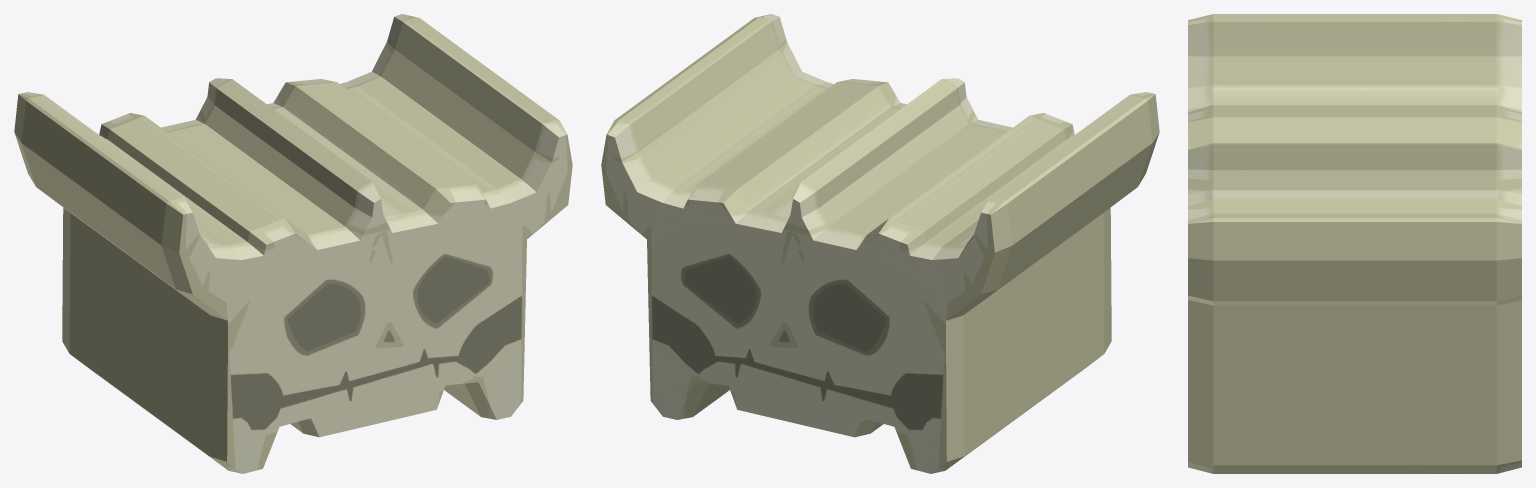
File: cest_from_zelda.glb
The picture shows the model from 3 angles, left to right: view 1: azimuth 30°, elevation 25°; view 2: azimuth 150°, elevation 25°; view 3: azimuth 270°, elevation 25°; orthographic projection.
Parts seen in each view (by area): view 1: Plane; view 2: Plane; view 3: Plane.
Boxes of the visible parts, left/top/right/bottom form: Plane: left=14, top=14, right=572, bottom=473; Plane: left=601, top=14, right=1159, bottom=473; Plane: left=1188, top=14, right=1521, bottom=473.
Size of the model in its own units: 1.26 by 0.87 by 0.8889.
1 material, 1 textured.
